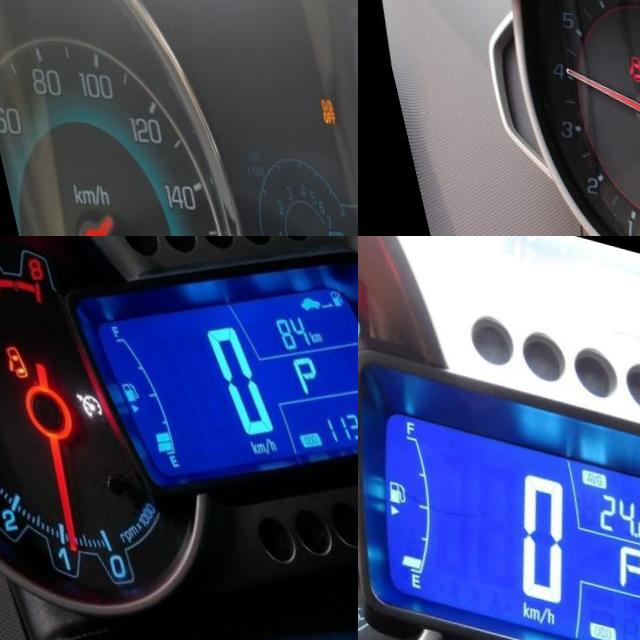Doors: (610, 48, 631, 79), (0, 338, 13, 377)
